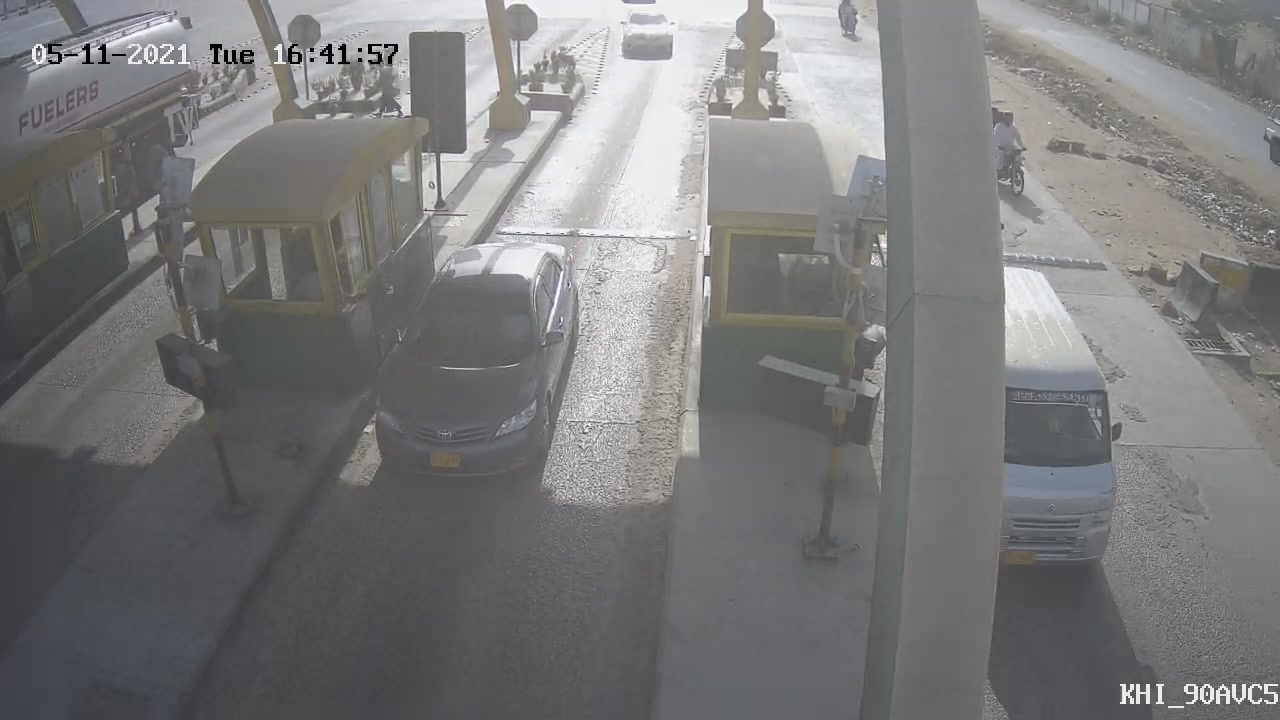F1: (355, 227, 592, 508)
